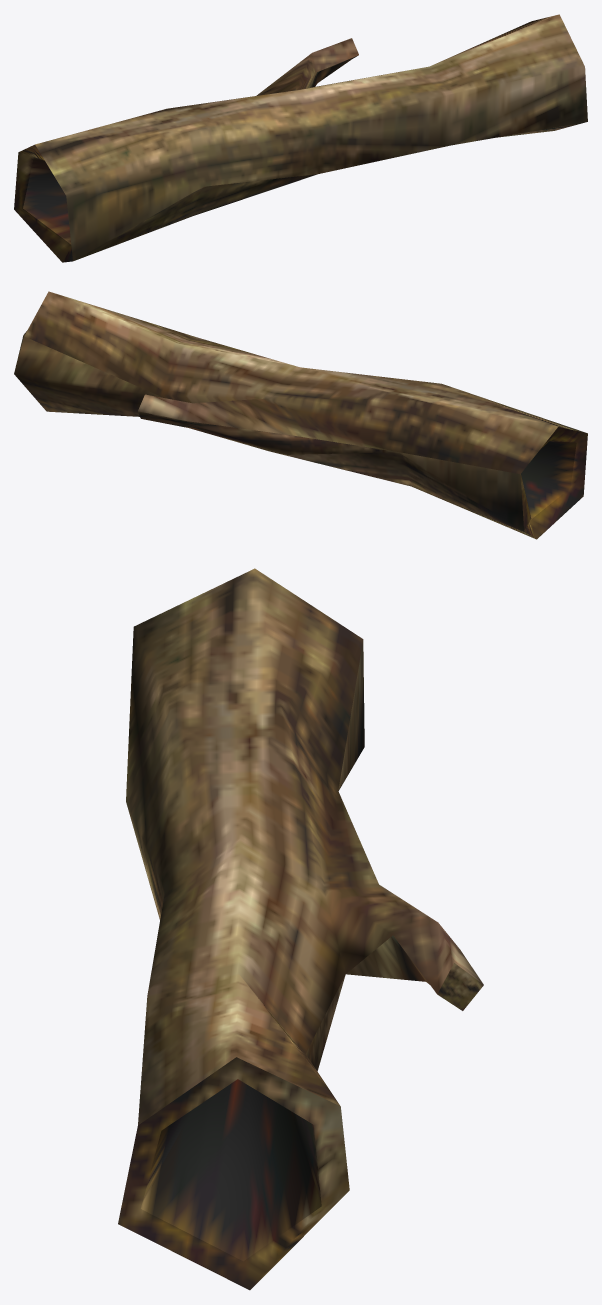
Rendered from general_obj_pillar.fbx.
The picture shows the model from 3 angles, top to bottom: view 1: azimuth 30°, elevation 25°; view 2: azimuth 150°, elevation 25°; view 3: azimuth 270°, elevation 25°; orthographic projection. The views are drawn at different scales.
Visible parts, largest first — view 1: Object24; view 2: Object24; view 3: Object24.
Boxes of the visible parts, box(x1,y1,x2,y2) form: Object24: box(14, 14, 587, 262); Object24: box(14, 291, 587, 539); Object24: box(118, 568, 483, 1290).
Bounding box in the file's own units: 3.13 × 0.7272 × 0.9475.
